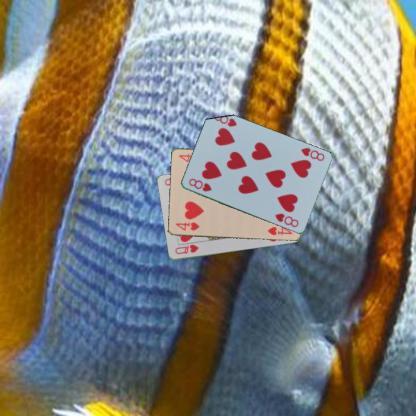4h: (173, 220, 200, 232)
8h: (186, 176, 213, 193), (298, 145, 325, 162)
Qh: (173, 242, 200, 255)
